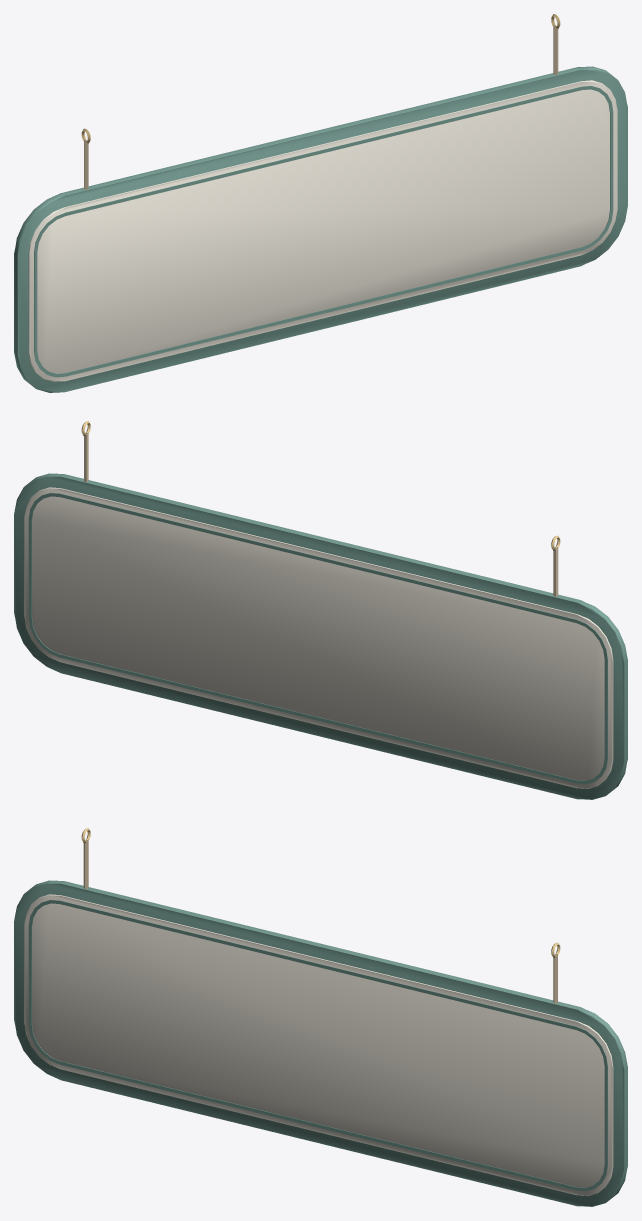
The model's file is sign_open.glb.
3 views of the same model, one above another, from view 1: azimuth 30°, elevation 25°; view 2: azimuth 150°, elevation 25°; view 3: azimuth 330°, elevation 25° (orthographic).
Parts seen in each view (by area): view 1: sign_open; view 2: sign_open; view 3: sign_open.
Part boxes in pixels (x1,y1,x2,y2): sign_open: [14, 14, 627, 392]; sign_open: [14, 421, 627, 799]; sign_open: [14, 828, 627, 1206].
Size of the model in its own units: 0.78 by 0.313 by 0.0171.
